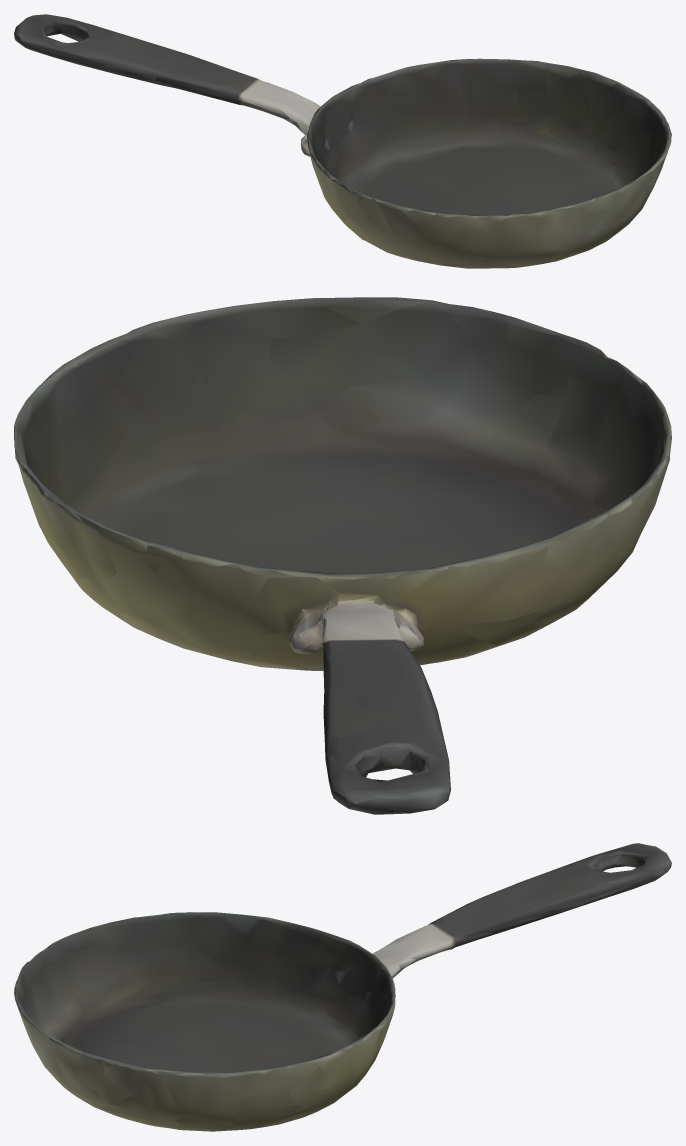
Rendered from 0017_mask_018_black_frying_pan.glb.
3 views of the same model, one above another, from view 1: azimuth 30°, elevation 25°; view 2: azimuth 150°, elevation 25°; view 3: azimuth 270°, elevation 25° (orthographic). The views are drawn at different scales.
Parts seen in each view (by area): view 1: mask_018_object; view 2: mask_018_object; view 3: mask_018_object.
Boxes of the visible parts, x1=… form: mask_018_object: x1=14, y1=14, x2=671, y2=268; mask_018_object: x1=14, y1=297, x2=671, y2=814; mask_018_object: x1=14, y1=843, x2=671, y2=1131.
Bounding box in the file's own units: 0.4237 × 0.0882 × 0.5466.
